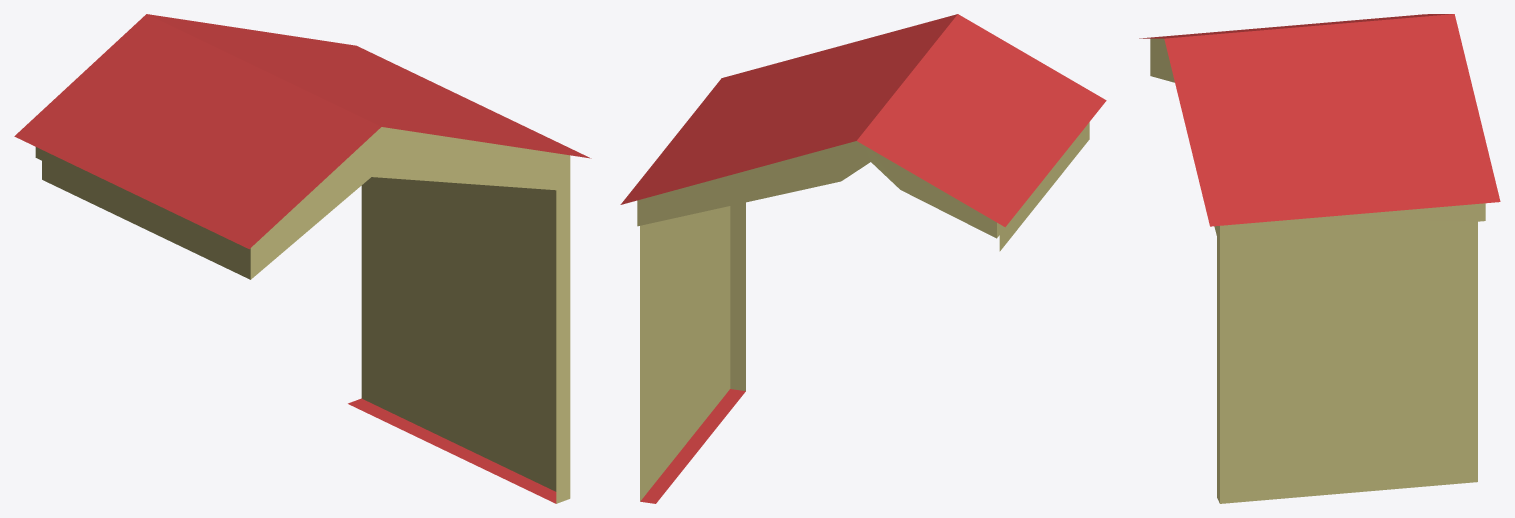
3 renders of one model, left to right at view 1: azimuth 30°, elevation 25°; view 2: azimuth 150°, elevation 25°; view 3: azimuth 270°, elevation 25°, orthographic. The views are drawn at different scales.
Size of the model in its own units: 16.99 by 14.41 by 16.33.
